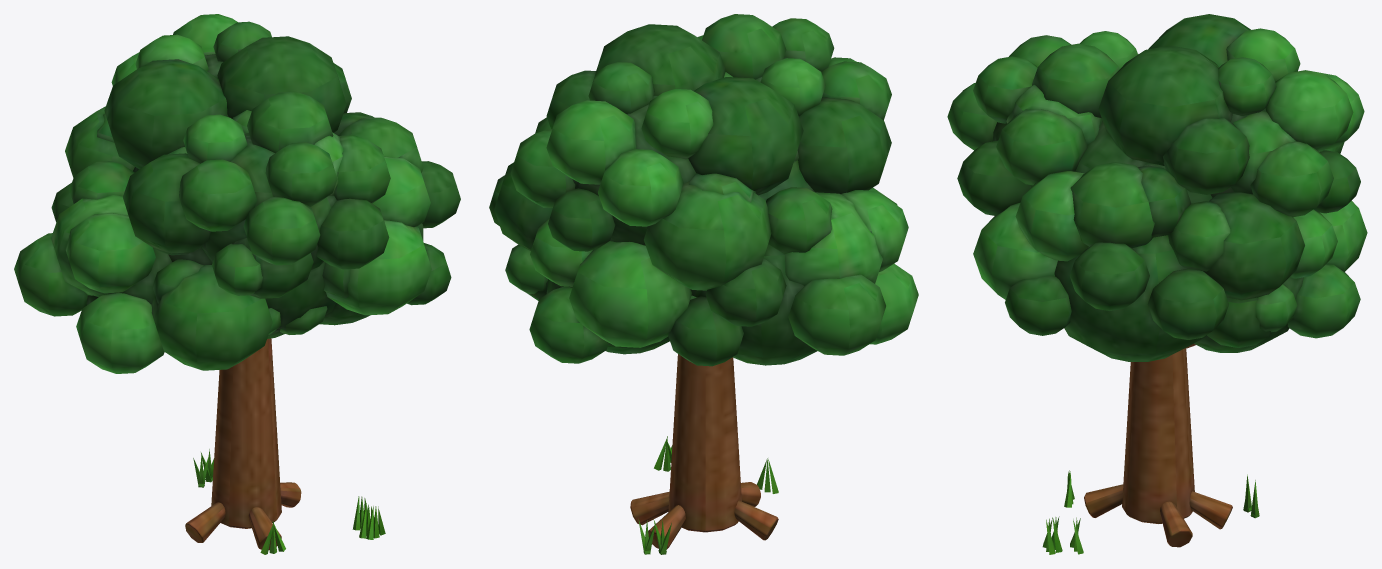
The model's file is jabuticaba_tree.glb.
3 renders of one model, left to right at view 1: azimuth 30°, elevation 25°; view 2: azimuth 150°, elevation 25°; view 3: azimuth 270°, elevation 25°, orthographic. The views are drawn at different scales.
Visible parts, largest first — view 1: crown, jabuticaba_tree; view 2: crown, jabuticaba_tree; view 3: crown, jabuticaba_tree.
Part boxes in pixels (x1,y1,x2,y2): crown: [14, 14, 460, 373]; jabuticaba_tree: [185, 338, 385, 554]; crown: [489, 14, 918, 366]; jabuticaba_tree: [630, 354, 778, 554]; crown: [947, 14, 1367, 361]; jabuticaba_tree: [1042, 343, 1259, 554].
Size of the model in its own units: 1.12 by 1.31 by 1.02.
Materials: 1 (1 with a texture image).
